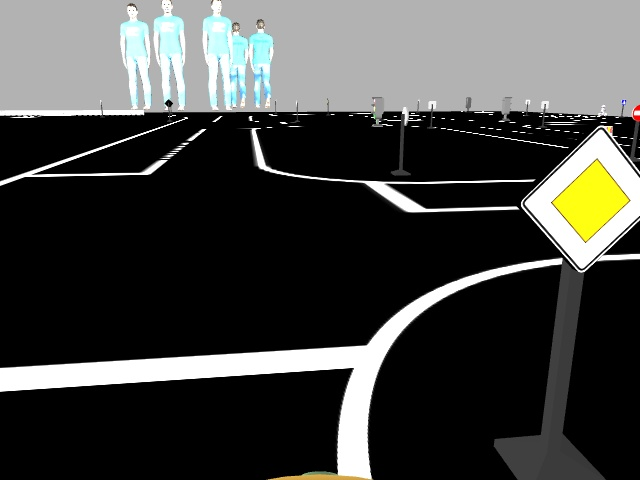NoEntry: (629, 103, 639, 122)
Priority: (519, 123, 639, 272)
